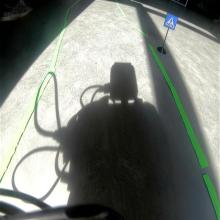crosswalk: (164, 12, 178, 31)
